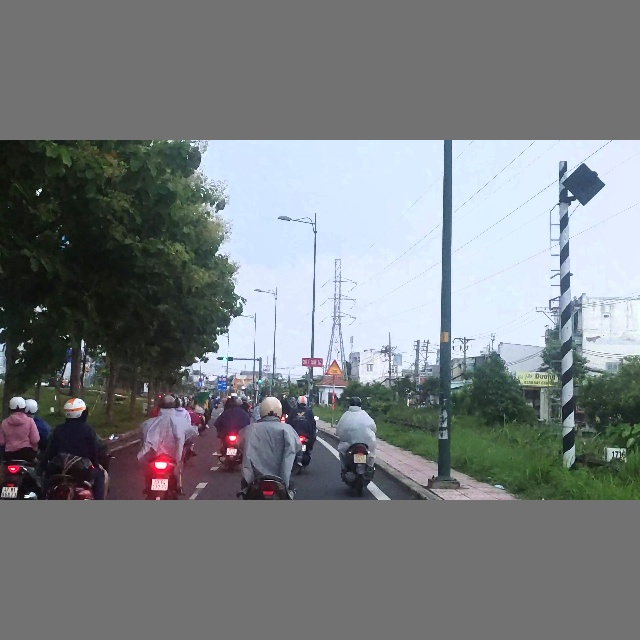W.210: (325, 359, 343, 376)
